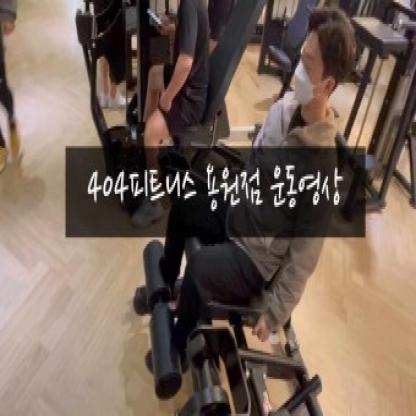leg extension: (128, 5, 378, 416)
